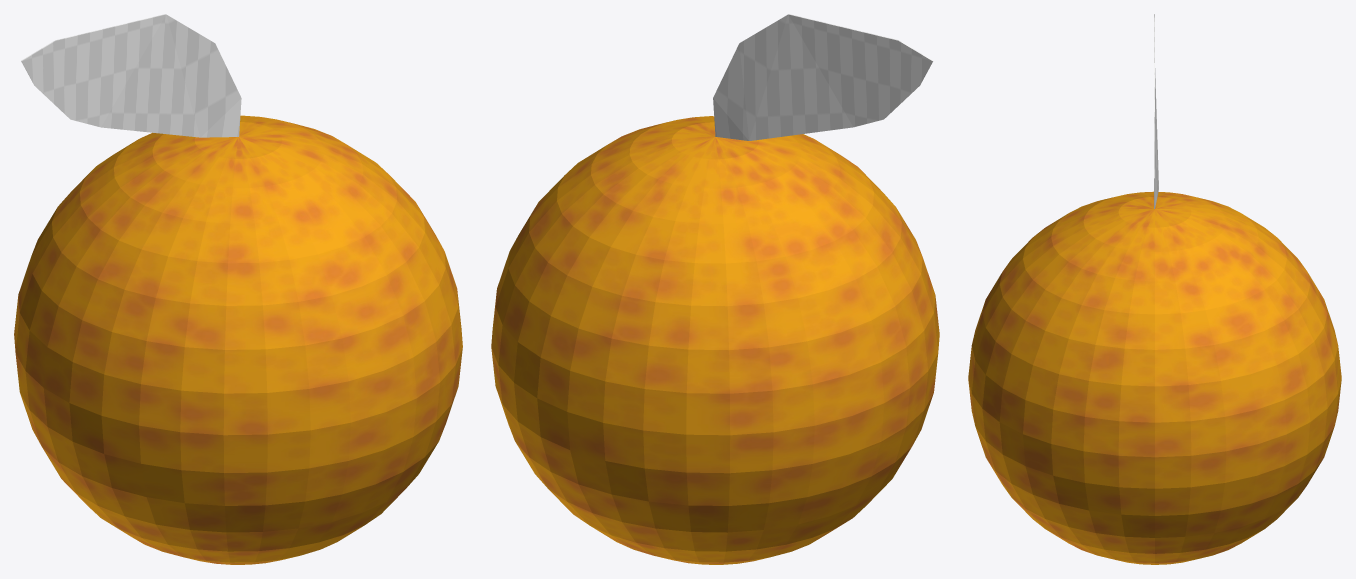
File: Orange.fbx
The picture shows the model from 3 angles, left to right: view 1: azimuth 30°, elevation 25°; view 2: azimuth 150°, elevation 25°; view 3: azimuth 270°, elevation 25°; orthographic projection. The views are drawn at different scales.
Visible parts, largest first — view 1: OrangeMesh; view 2: OrangeMesh; view 3: OrangeMesh.
Part boxes in pixels (x1,y1,x2,y2): OrangeMesh: (14, 14, 462, 564); OrangeMesh: (491, 14, 939, 564); OrangeMesh: (968, 14, 1341, 564).
Bounding box in the file's own units: 375 × 476 × 354.
